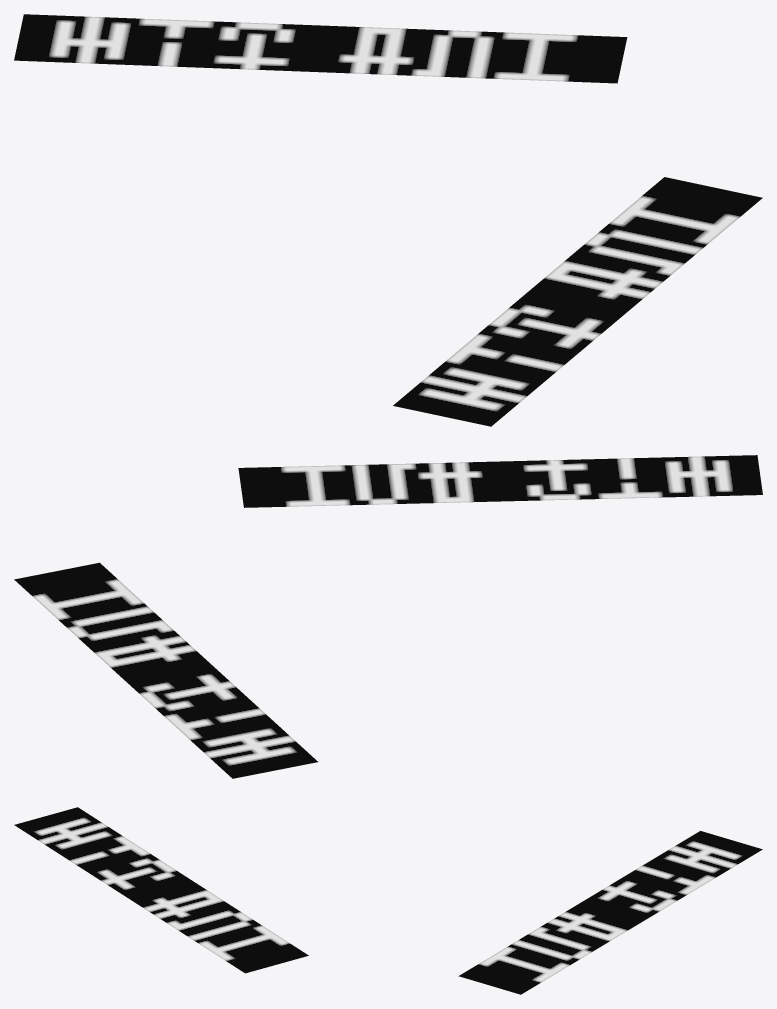
The model's file is SM_TotemGlyphs_01_Alt.glb.
3 views of the same model, one above another, from view 1: azimuth 30°, elevation 25°; view 2: azimuth 150°, elevation 25°; view 3: azimuth 270°, elevation 25° (orthographic). The views are drawn at different scales.
Visible parts, largest first — view 1: SM_TotemGlyphs_01_Alt.001; view 2: SM_TotemGlyphs_01_Alt.001; view 3: SM_TotemGlyphs_01_Alt.001.
Part boxes in pixels (<box>): SM_TotemGlyphs_01_Alt.001: <box>14,14,762,426</box>; SM_TotemGlyphs_01_Alt.001: <box>14,455,762,778</box>; SM_TotemGlyphs_01_Alt.001: <box>14,807,762,994</box>.
Size of the model in its own units: 580 by 0.000139 by 979.
1 material, 1 textured.
